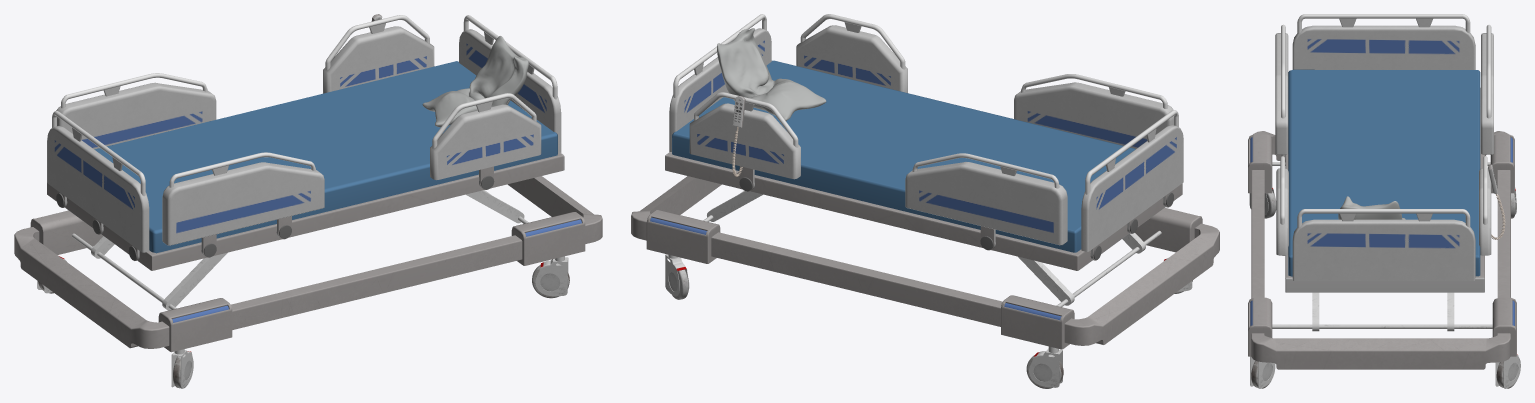
3 renders of one model, left to right at view 1: azimuth 30°, elevation 25°; view 2: azimuth 150°, elevation 25°; view 3: azimuth 270°, elevation 25°, orthographic. The views are drawn at different scales.
Visible parts, largest first — view 1: transform46; view 2: transform46; view 3: transform46.
Part boxes in pixels (<box>): transform46: <box>14,14,602,388</box>; transform46: <box>631,14,1219,388</box>; transform46: <box>1248,14,1520,388</box>.
Size of the model in its own units: 23.02 by 9.82 by 12.32.
Materials: 2 (2 with a texture image).
